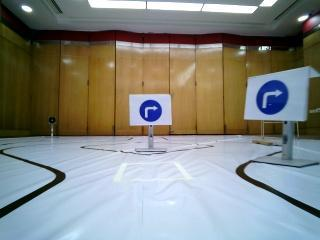right: (248, 75, 301, 114), (129, 97, 170, 126)
